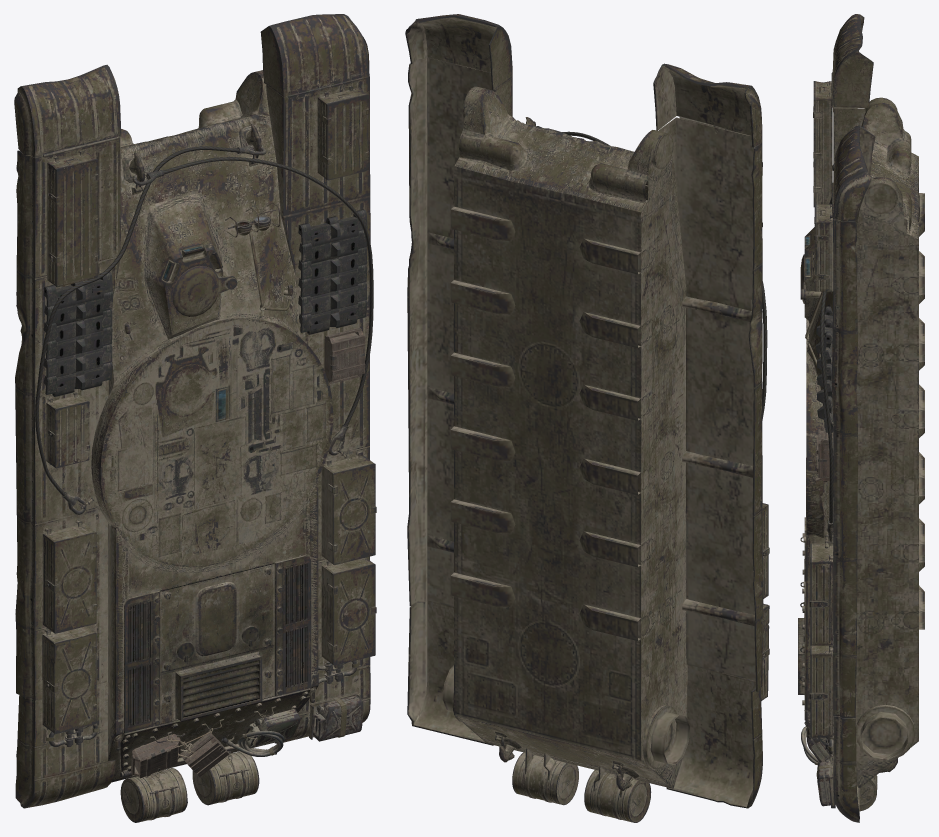
File: Hull.glb
3 views of the same model, side by side, from view 1: azimuth 30°, elevation 25°; view 2: azimuth 150°, elevation 25°; view 3: azimuth 270°, elevation 25° (orthographic). The views are drawn at different scales.
Parts seen in each view (by area): view 1: set_0_group_0; view 2: set_0_group_0; view 3: set_0_group_0.
Boxes of the visible parts, x1,y1,x2,y2 form: set_0_group_0: [14, 14, 376, 822]; set_0_group_0: [405, 14, 769, 822]; set_0_group_0: [798, 14, 924, 822].
Size of the model in its own units: 3.76 by 7.85 by 1.29.
Materials: 1 (1 with a texture image).
